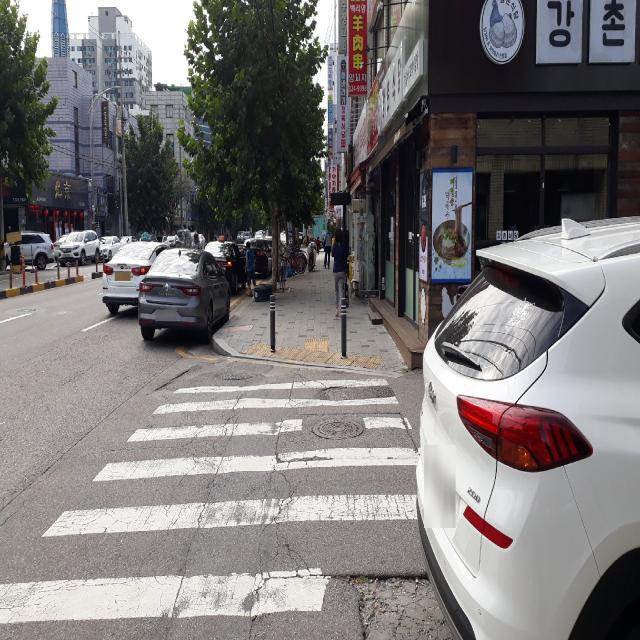횡단보도: (0, 374, 428, 640)
